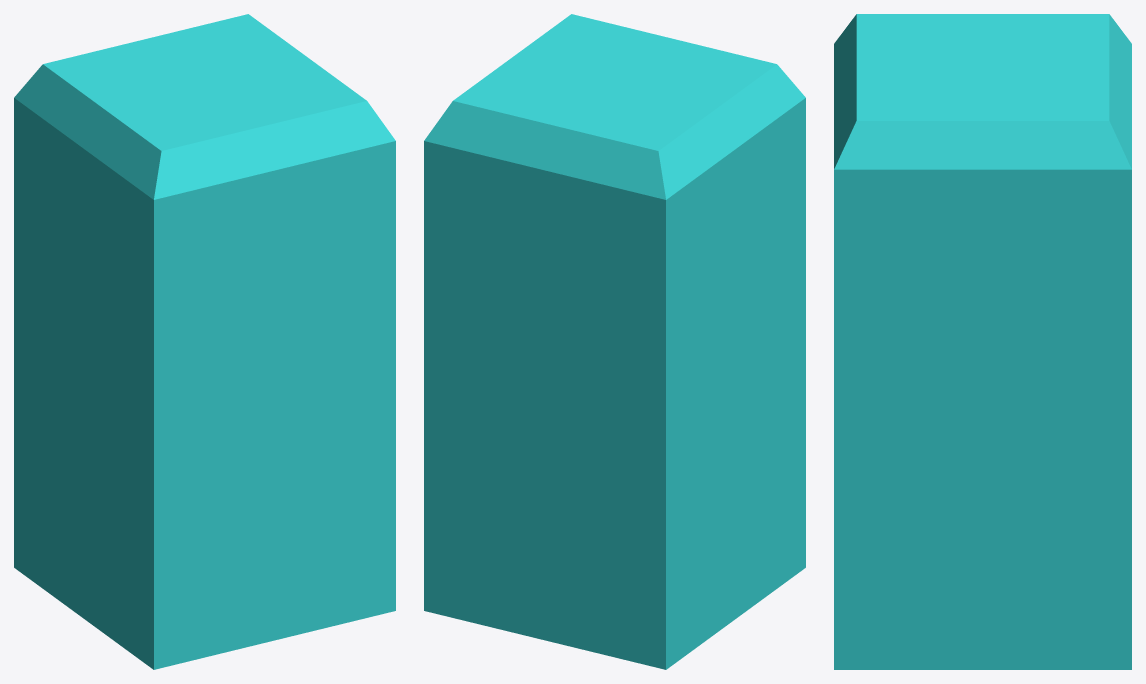
Rendered from player.fbx.
3 views of the same model, side by side, from view 1: azimuth 30°, elevation 25°; view 2: azimuth 150°, elevation 25°; view 3: azimuth 270°, elevation 25° (orthographic). The views are drawn at different scales.
Visible parts, largest first — view 1: Cube; view 2: Cube; view 3: Cube.
Boxes of the visible parts, box(x1,y1,x2,y2) form: Cube: box(14, 14, 395, 669); Cube: box(424, 14, 805, 669); Cube: box(834, 14, 1131, 669).
Bounding box in the file's own units: 100 × 200 × 100.
